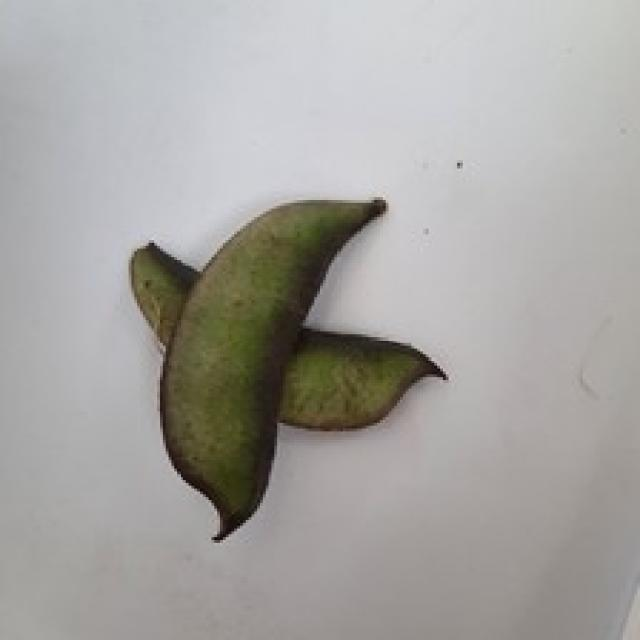Bean: (152, 194, 388, 540), (274, 326, 446, 431)
